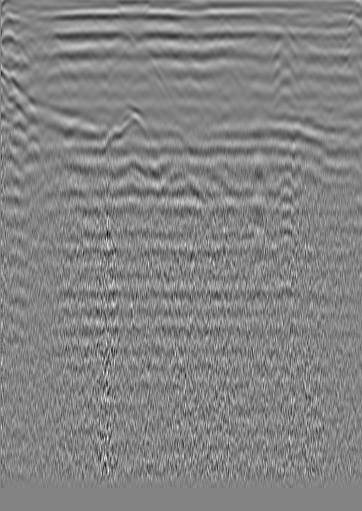가스: (111, 157, 147, 181)
상수: (16, 5, 36, 25)
오수: (305, 12, 325, 32)
우수: (158, 14, 178, 34)
